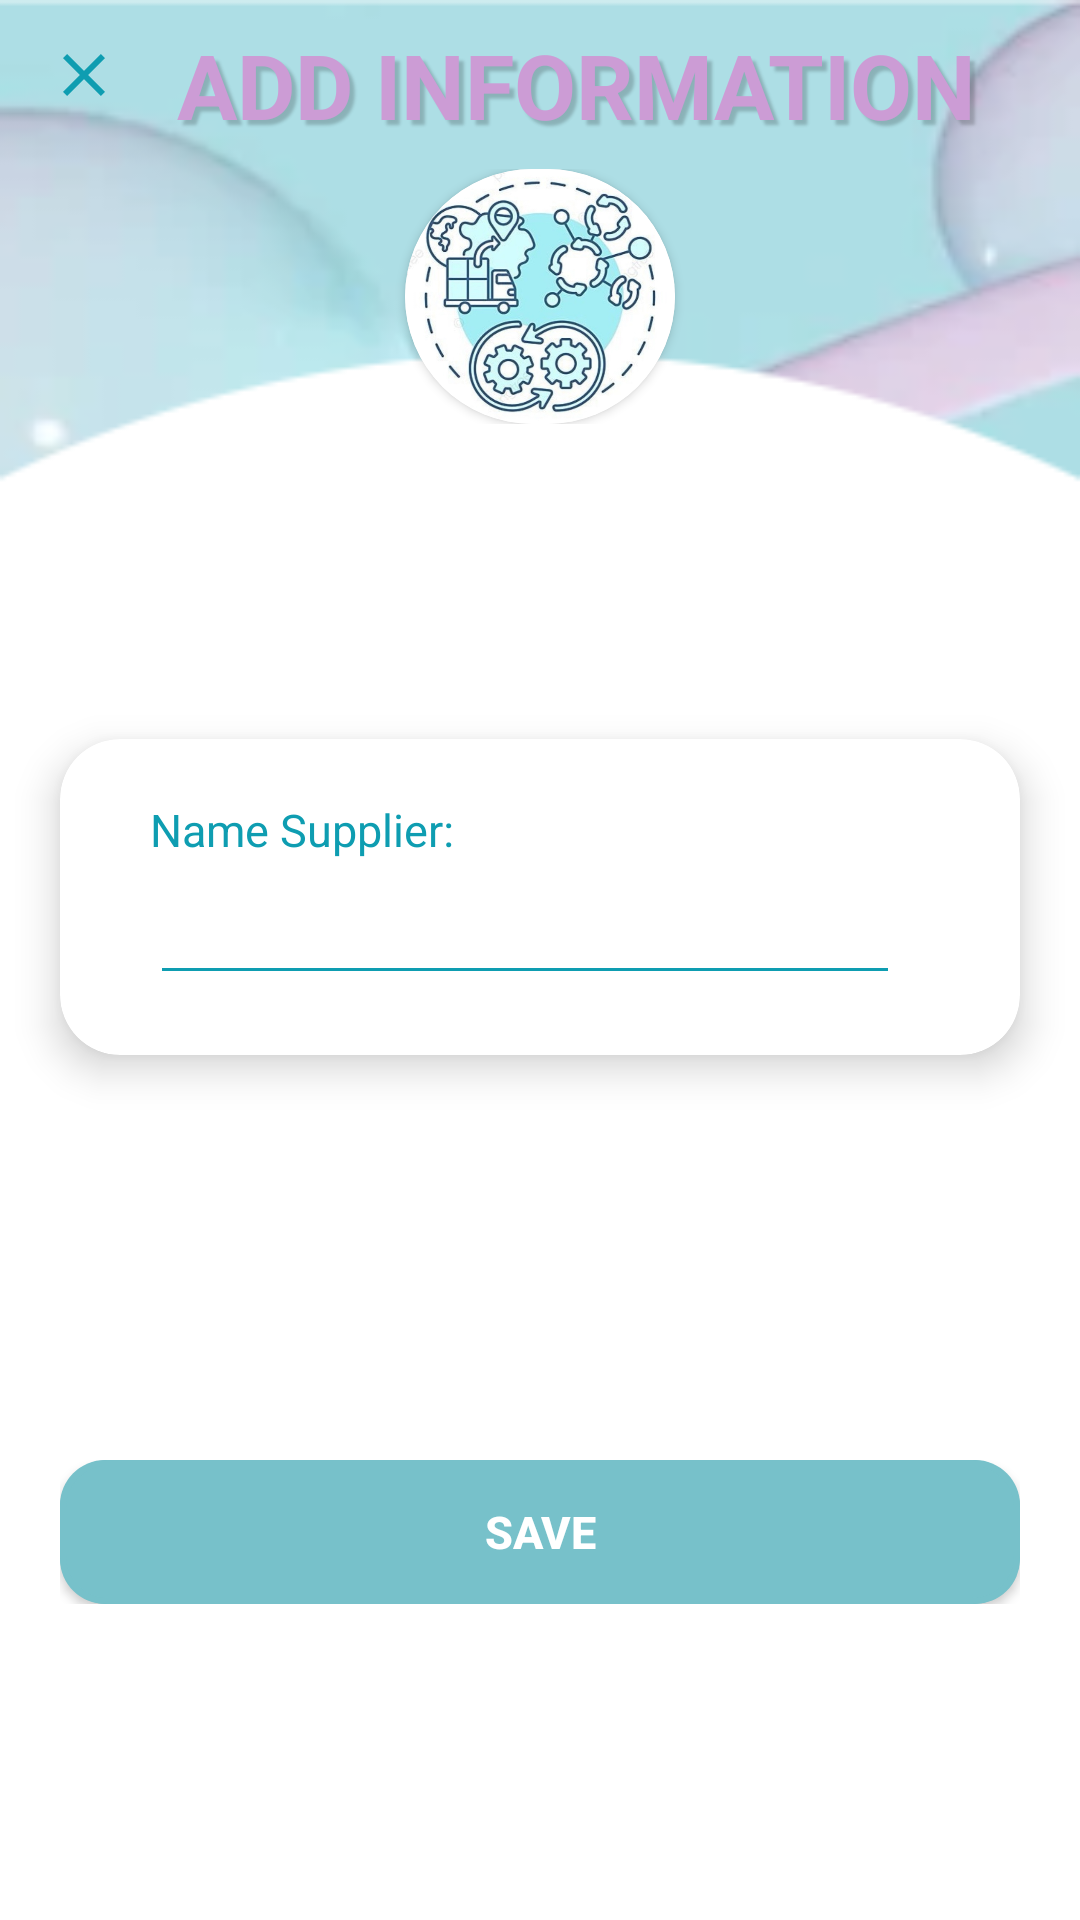

Where icons sit on this 1080px×1920px app screen, as Rect(x1, y1, x2, y2):
close: Rect(63, 54, 105, 96)
supplier: Rect(405, 169, 675, 424)
